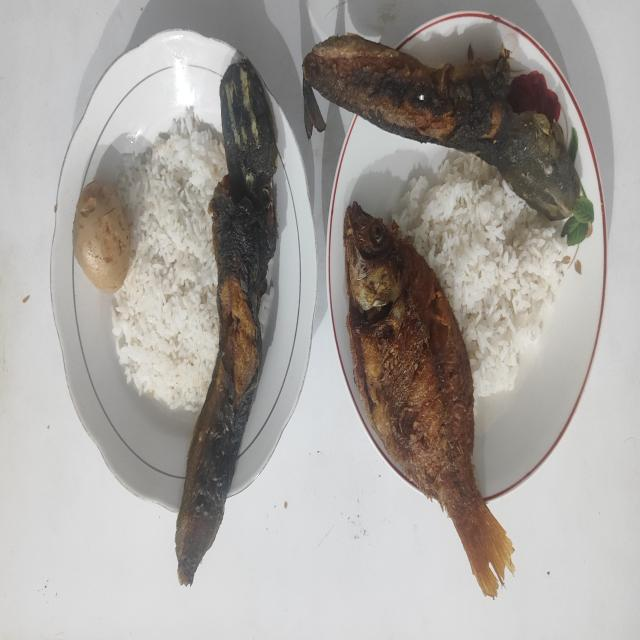ikan_mujair: (343, 202, 514, 598)
nasi_putih: (392, 150, 568, 398), (112, 107, 226, 412)
